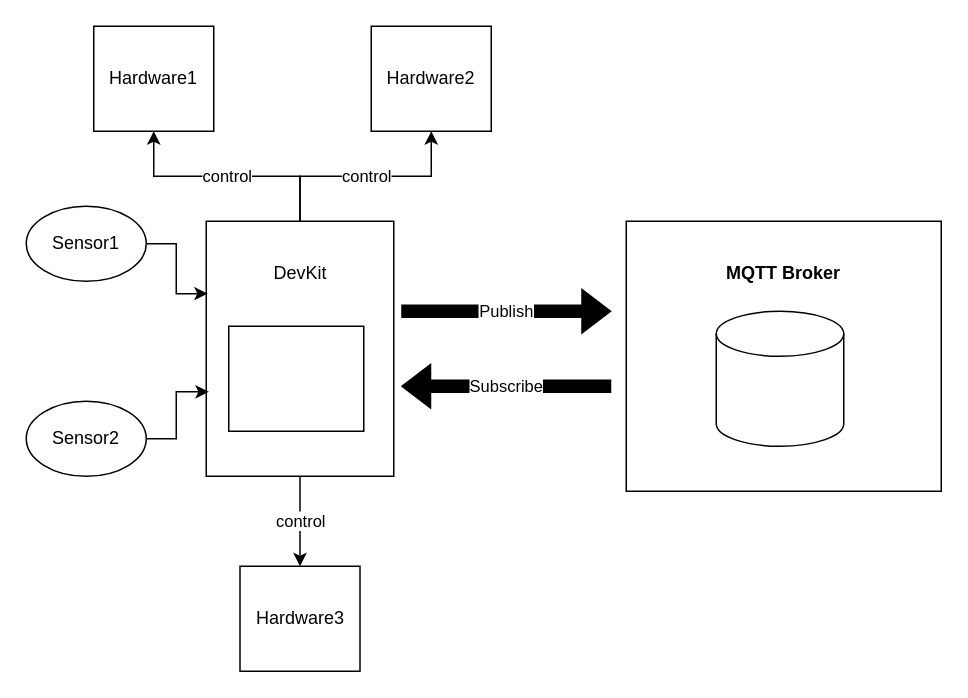
Image size: 968x698. Some labels were removed from this diagram. Here are the shapes that lost their labels. From the top down, the box of each, then its label:
(227, 325, 364, 431): ESP SoC
(715, 310, 844, 446): DataBase
